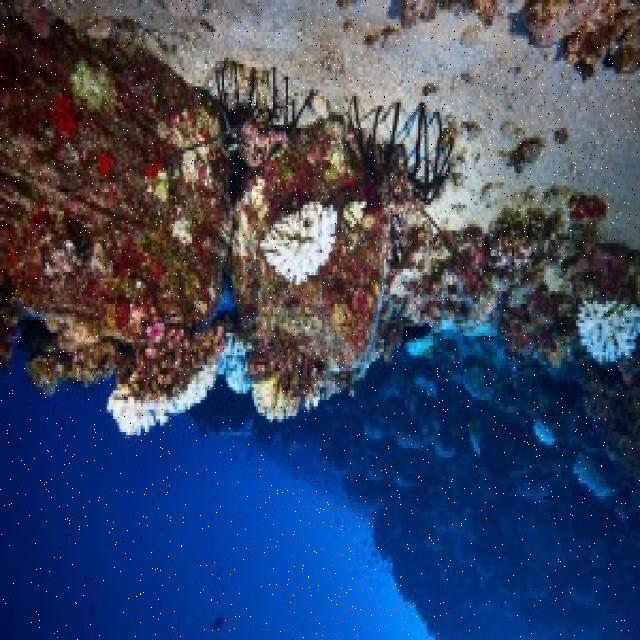Bleached: (98, 366, 219, 441), (254, 194, 343, 293), (570, 295, 640, 362), (248, 385, 321, 422)
Healthy: (131, 313, 229, 370), (500, 290, 569, 355), (246, 334, 327, 382)
